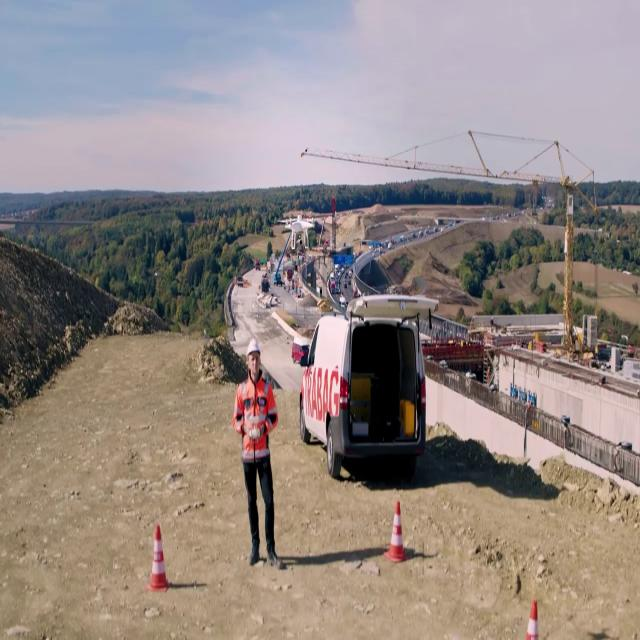drone: (281, 212, 315, 249)
